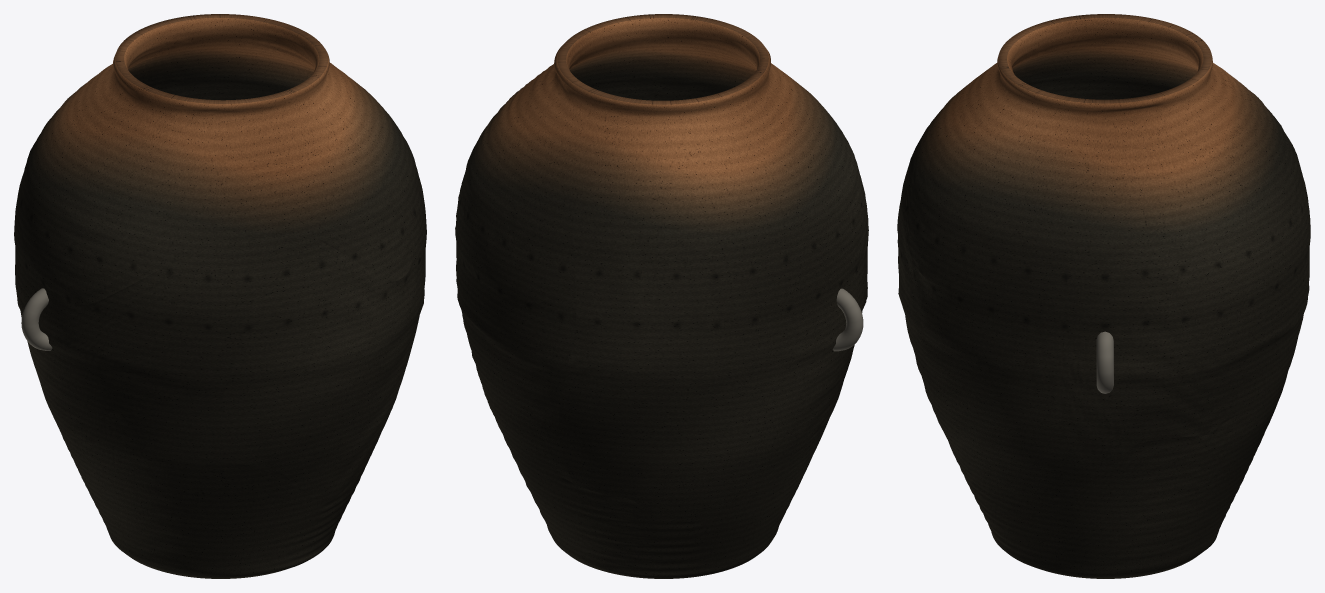
Rendered from bcm-1072-restoration.glb.
3 renders of one model, left to right at view 1: azimuth 30°, elevation 25°; view 2: azimuth 150°, elevation 25°; view 3: azimuth 270°, elevation 25°, orthographic.
Visible parts, largest first — view 1: shard_2_1, shard_1_2, shard_1_1, shard_2_2, shard_0_1, shard_2_0, shard_0_2, Side handle 2; view 2: shard_1_1, shard_2_1, shard_2_0, shard_1_0, shard_0_1, shard_2_2, shard_0_0, Side handle 2; view 3: shard_1_2, shard_2_2, shard_1_0, shard_2_0, shard_0_2, shard_2_1, shard_0_0, Side handle 1.
Part boxes in pixels (x1=…): shard_2_1: x1=18, y1=19, x2=244, y2=304; shard_1_2: x1=219, y1=200, x2=426, y2=500; shard_1_1: x1=14, y1=178, x2=253, y2=461; shard_2_2: x1=229, y1=26, x2=424, y2=281; shard_0_1: x1=62, y1=412, x2=235, y2=578; shard_2_0: x1=140, y1=14, x2=314, y2=100; shard_0_2: x1=222, y1=454, x2=371, y2=578; Side handle 2: x1=21, y1=288, x2=52, y2=350; shard_1_1: x1=559, y1=212, x2=868, y2=522; shard_2_1: x1=572, y1=33, x2=867, y2=281; shard_2_0: x1=463, y1=49, x2=613, y2=308; shard_1_0: x1=455, y1=140, x2=576, y2=482; shard_0_1: x1=573, y1=370, x2=847, y2=578; shard_2_2: x1=483, y1=14, x2=756, y2=130; shard_0_0: x1=478, y1=375, x2=608, y2=572; Side handle 2: x1=832, y1=288, x2=863, y2=351; shard_1_2: x1=897, y1=119, x2=1163, y2=497; shard_2_2: x1=905, y1=39, x2=1156, y2=284; shard_1_0: x1=1131, y1=200, x2=1310, y2=439; shard_2_0: x1=1135, y1=59, x2=1309, y2=297; shard_0_2: x1=960, y1=439, x2=1170, y2=578; shard_2_1: x1=956, y1=14, x2=1307, y2=195; shard_0_0: x1=1138, y1=411, x2=1264, y2=576; Side handle 1: x1=1096, y1=331, x2=1113, y2=393.
Size of the model in its own units: 1.4 by 1.6 by 1.26.
4 materials, 2 textured.
